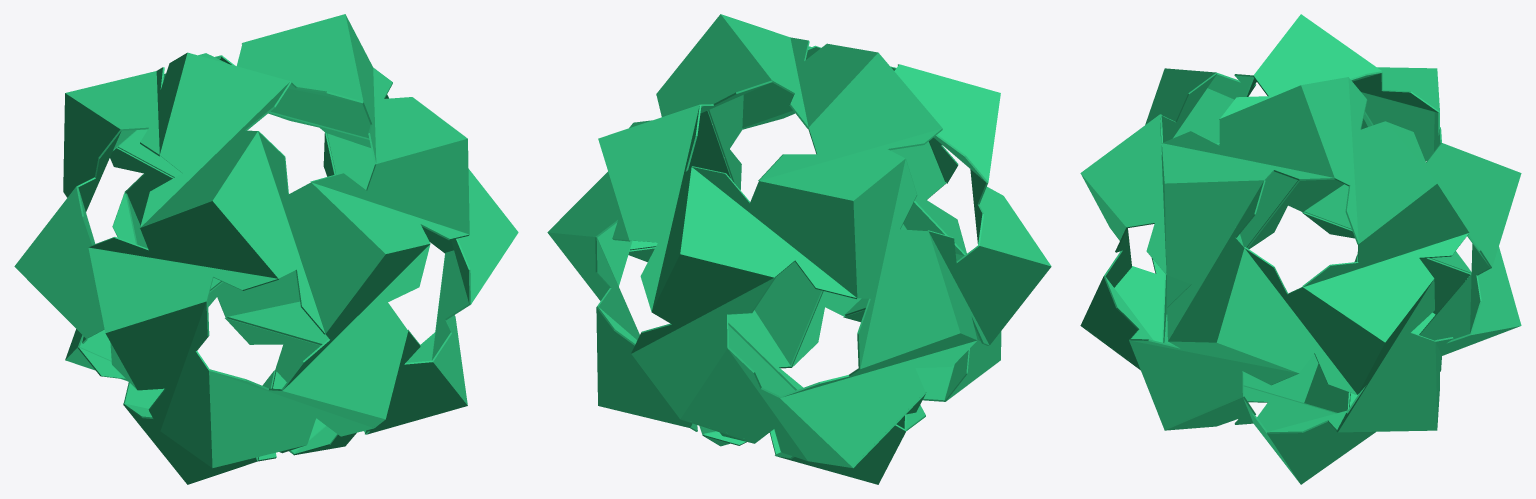
File: Dodecahedron2.glb
3 views of the same model, side by side, from view 1: azimuth 30°, elevation 25°; view 2: azimuth 150°, elevation 25°; view 3: azimuth 270°, elevation 25° (orthographic). The views are drawn at different scales.
Visible parts, largest first — view 1: root; view 2: root; view 3: root.
Part boxes in pixels (box(x1,y1,x2,y2)): root: box(14, 14, 518, 484); root: box(547, 14, 1051, 484); root: box(1080, 14, 1521, 484).
Bounding box in the file's own units: 2.62 × 2.62 × 2.62.
